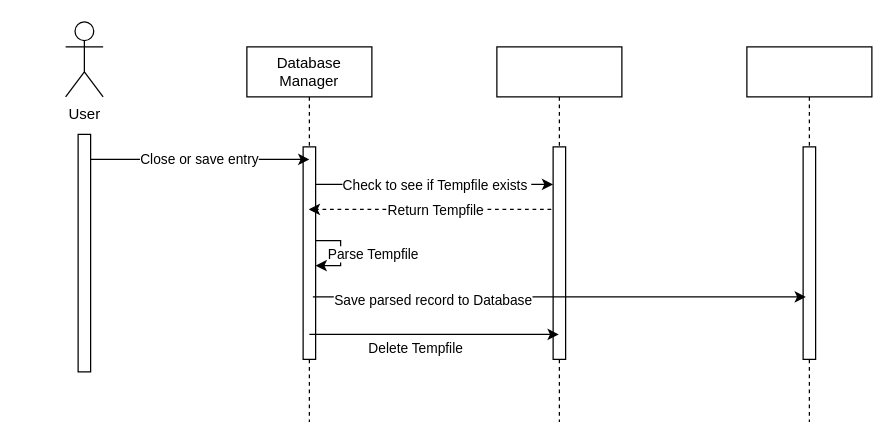
Some shapes in this 894 by 444 pixel diagram are drawn without their labels. The box of each missing label's shape, as (x1, y1, x2, y2) in pixels:
Database: (746, 46, 872, 422)
Local Storage: (496, 46, 622, 422)
